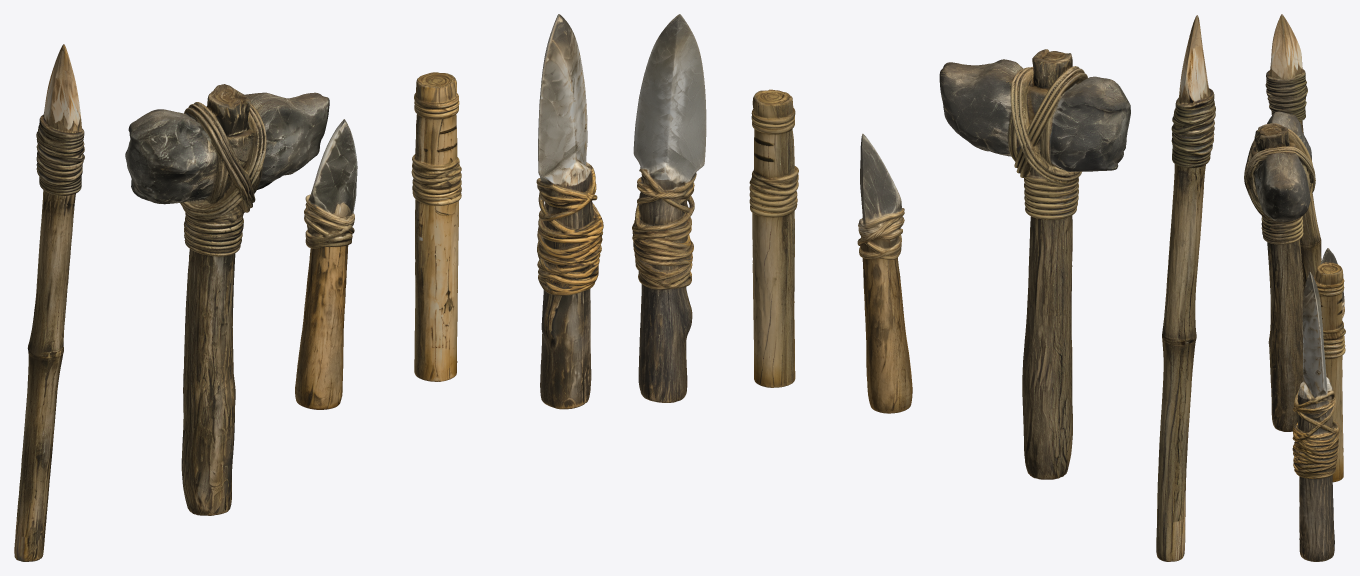
File: werkzeuge_waffen_original.glb
The picture shows the model from 3 angles, left to right: view 1: azimuth 30°, elevation 25°; view 2: azimuth 150°, elevation 25°; view 3: azimuth 270°, elevation 25°; orthographic projection. The views are drawn at different scales.
Parts seen in each view (by area): view 1: mesh_node; view 2: mesh_node; view 3: mesh_node.
Boxes of the visible parts, <box> form: mesh_node: <box>14,14,603,561</box>; mesh_node: <box>632,14,1215,561</box>; mesh_node: <box>1244,14,1345,561</box>.
Bounding box in the file's own units: 1.9 × 1.69 × 0.4078.
1 material, 1 textured.
